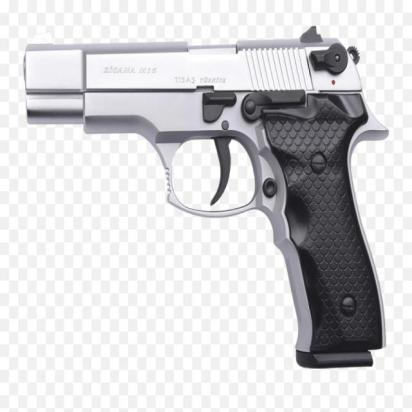Gun: (20, 24, 394, 374)
